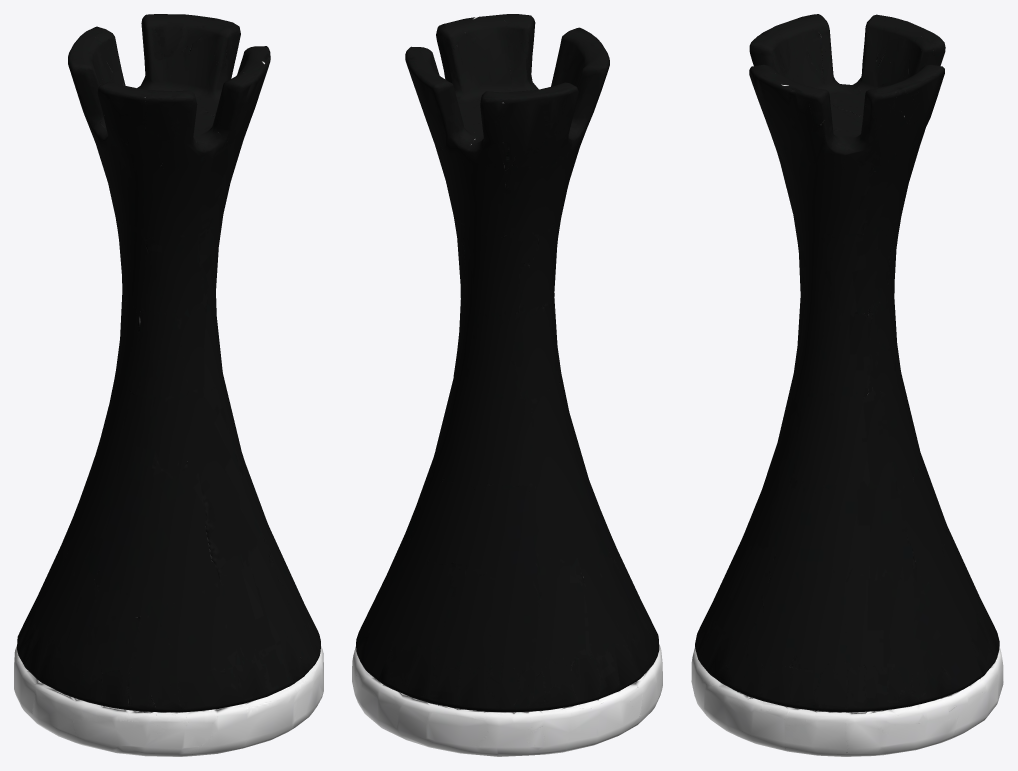
File: bishop-black.glb
3 renders of one model, left to right at view 1: azimuth 30°, elevation 25°; view 2: azimuth 150°, elevation 25°; view 3: azimuth 270°, elevation 25°, orthographic.
Bounding box in the file's own units: 0.5827 × 1.32 × 0.583.
1 material, 1 textured.
